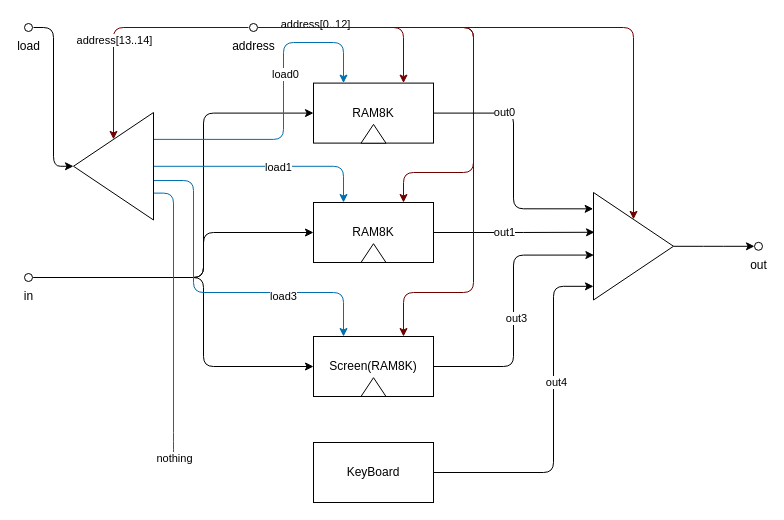
This 784x520 diagram has some shape labels left out. The centre of each missing label's shape, as x and y in pixels:
DMux4Way: point 113,166
Mux4Way: point 633,246
